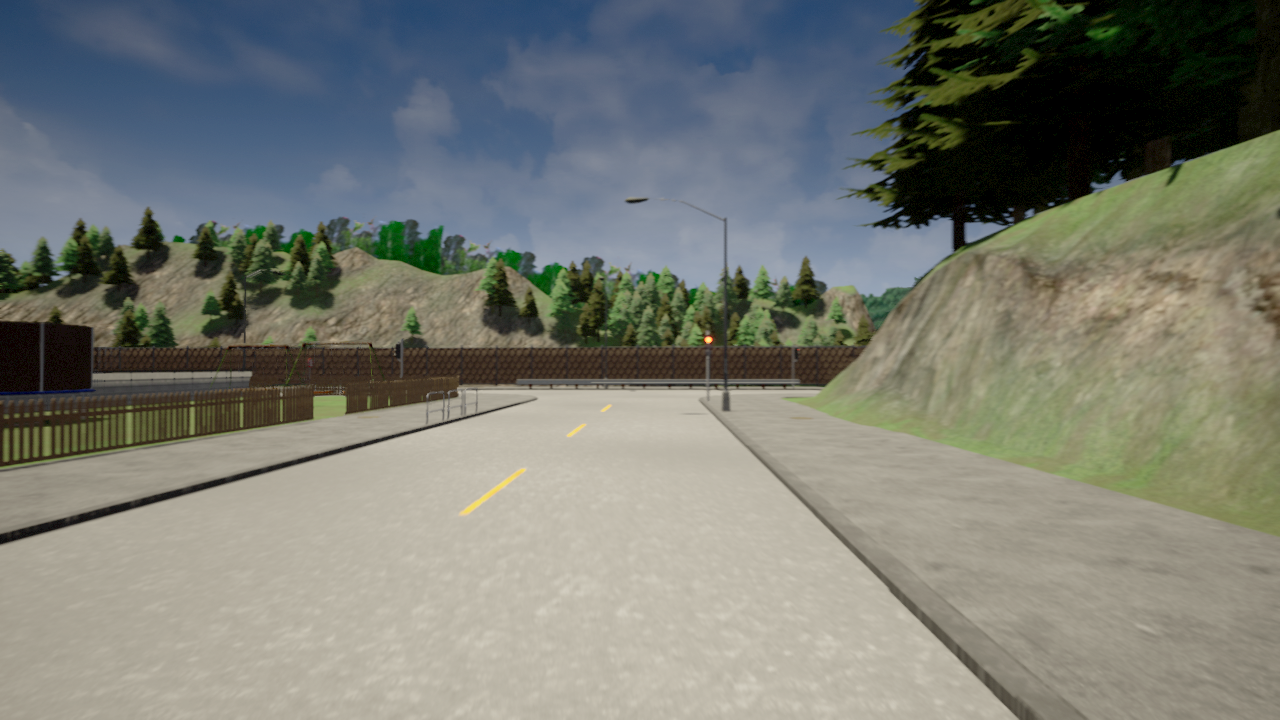red: (703, 334, 714, 357)
